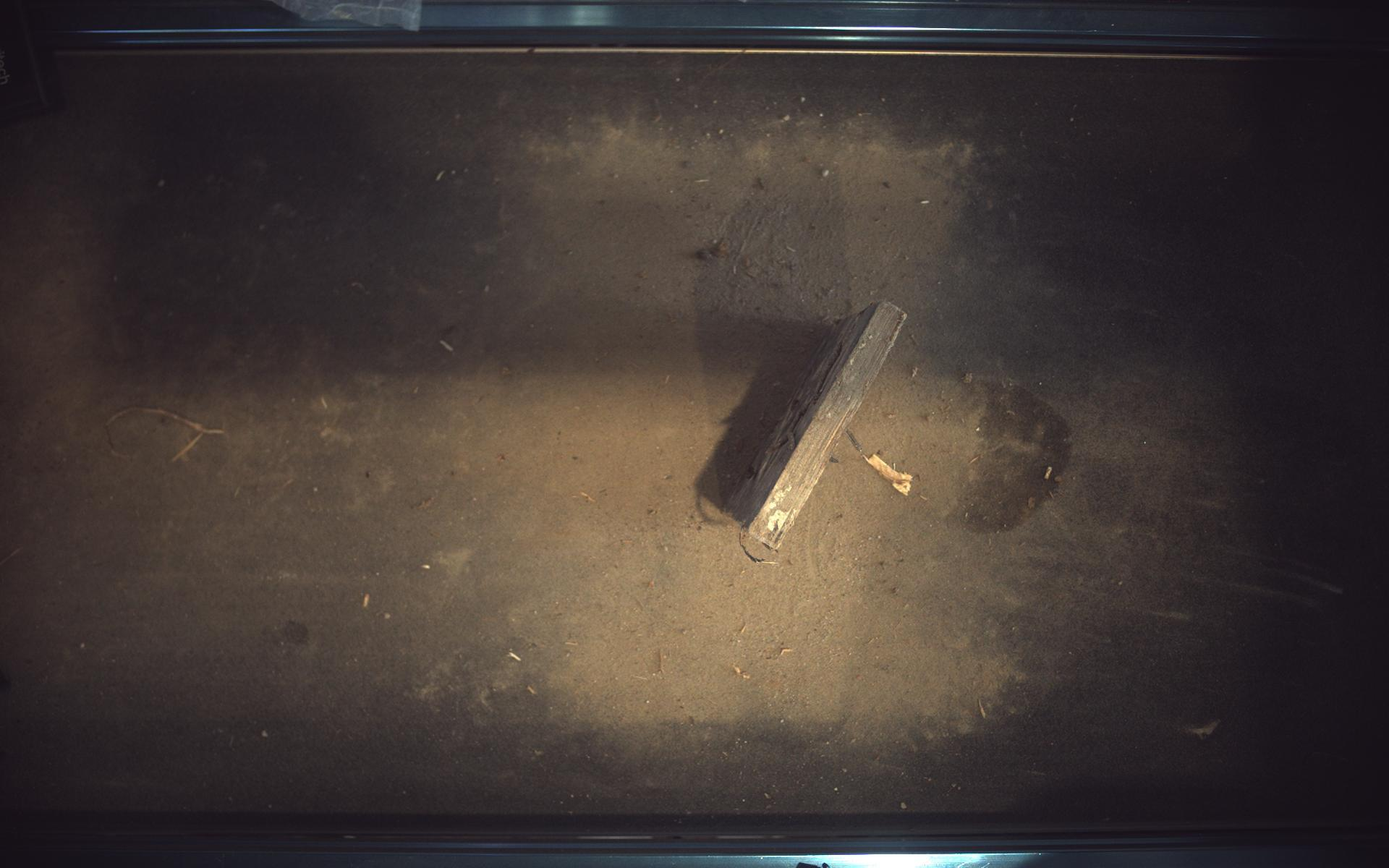wood: (729, 302, 908, 550)
